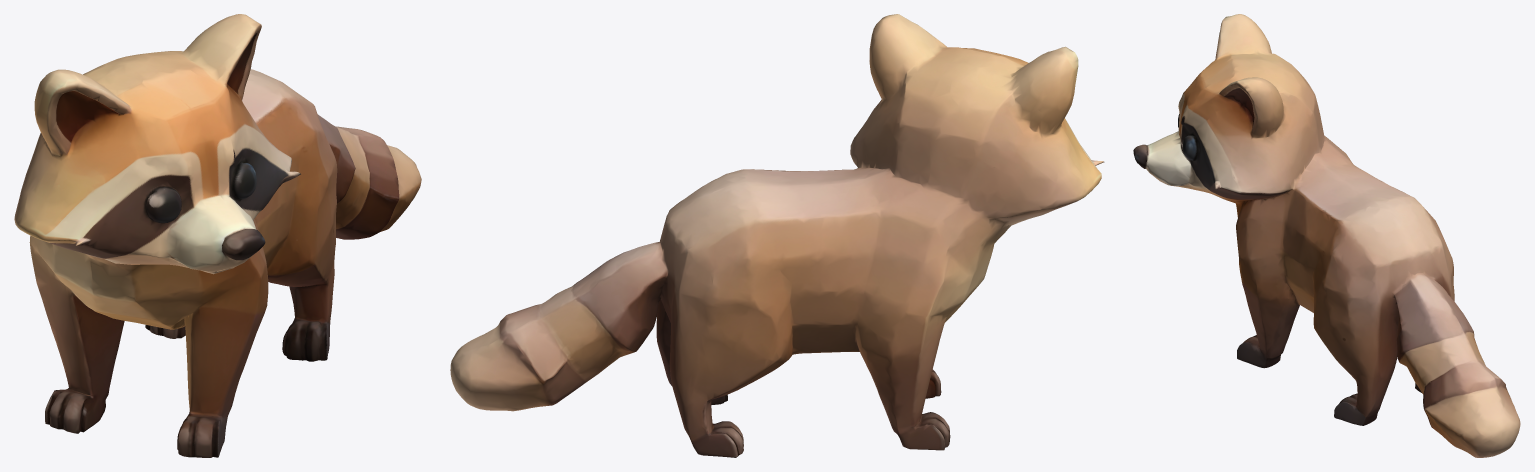
File: raccoon.glb
The picture shows the model from 3 angles, left to right: view 1: azimuth 30°, elevation 25°; view 2: azimuth 150°, elevation 25°; view 3: azimuth 270°, elevation 25°; orthographic projection. The views are drawn at different scales.
Visible parts, largest first — view 1: tripo_node_6d02e15c-b75e-4e9c-8874-2b08a7be1a29; view 2: tripo_node_6d02e15c-b75e-4e9c-8874-2b08a7be1a29; view 3: tripo_node_6d02e15c-b75e-4e9c-8874-2b08a7be1a29.
Part boxes in pixels (x1,y1,x2,y2): tripo_node_6d02e15c-b75e-4e9c-8874-2b08a7be1a29: (14,14,421,457); tripo_node_6d02e15c-b75e-4e9c-8874-2b08a7be1a29: (450,14,1104,457); tripo_node_6d02e15c-b75e-4e9c-8874-2b08a7be1a29: (1133,14,1520,457).
Size of the model in its own units: 1 by 0.7186 by 0.8597.
1 material, 1 textured.
